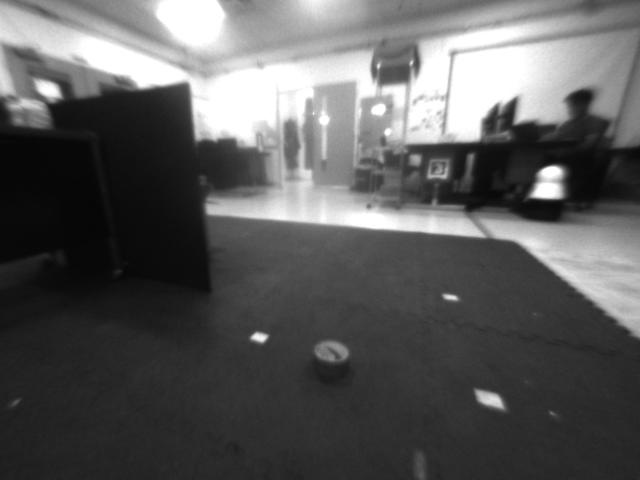dogtoy: (305, 335, 360, 377)
